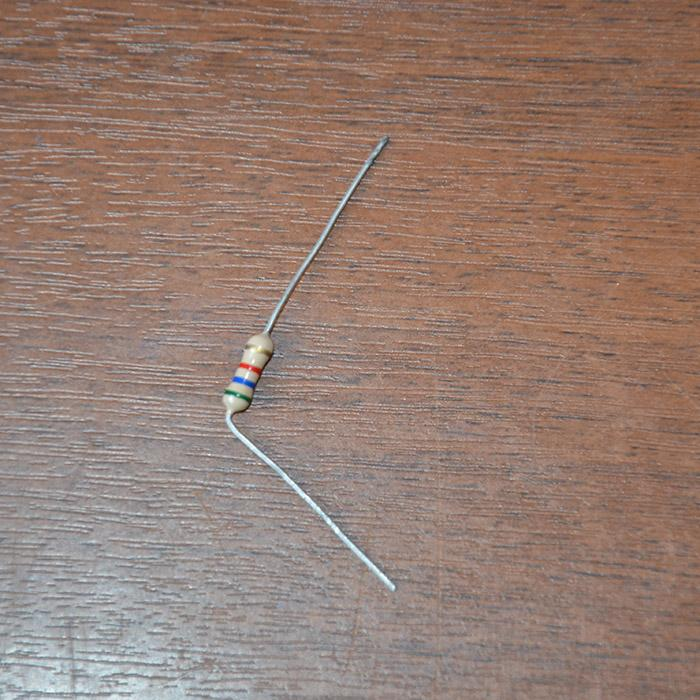resistor: (221, 332, 275, 415)
